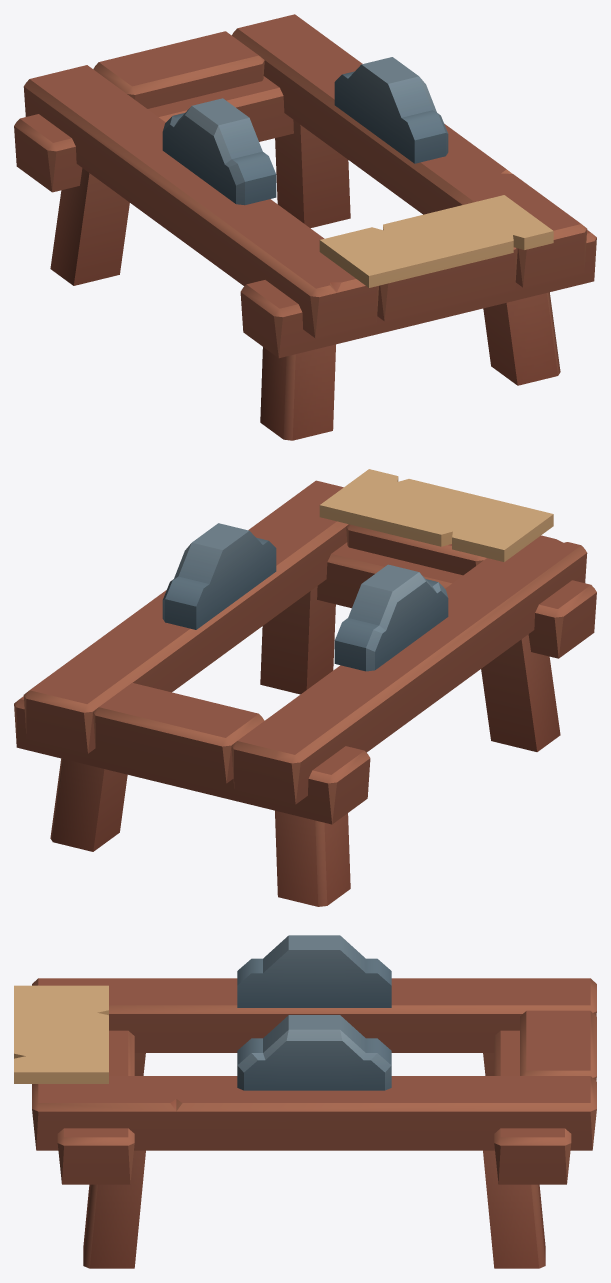
File: grindstone.obj
The picture shows the model from 3 angles, top to bottom: view 1: azimuth 30°, elevation 25°; view 2: azimuth 150°, elevation 25°; view 3: azimuth 270°, elevation 25°; orthographic projection. The views are drawn at different scales.
Parts seen in each view (by area): view 1: grindstone; view 2: grindstone; view 3: grindstone.
Part boxes in pixels (<box>): grindstone: <box>14,14,596,440</box>; grindstone: <box>14,469,596,906</box>; grindstone: <box>14,935,596,1268</box>.
Size of the model in its own units: 1.4 by 0.95 by 2.27.
Materials: 1 (1 with a texture image).
